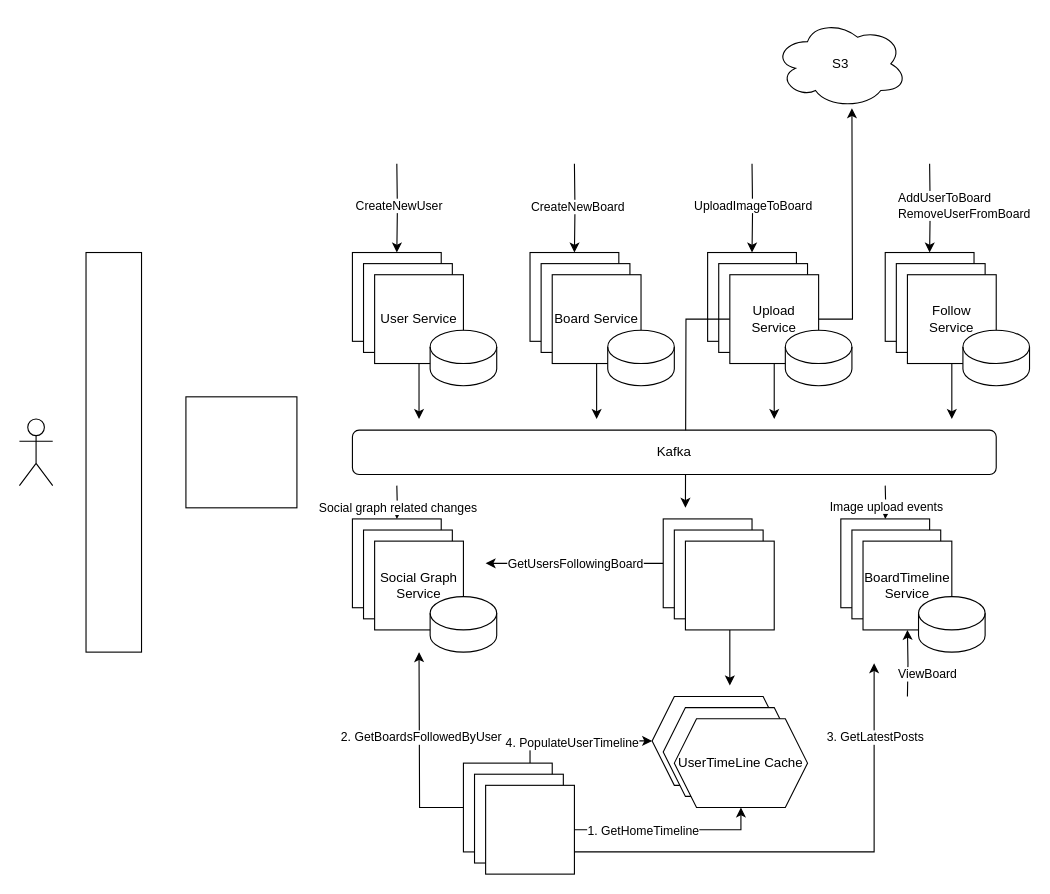
Some shapes in this 1050 by 894 pixel diagram are drawn without their labels. Each missing label, with the centre of its shape:
"Actor" belongs at point (35, 452).
"API Gateway" belongs at point (241, 452).
"Fanout Service" belongs at point (729, 585).
"LB(s)" belongs at point (113, 451).
"UserTimeline Service" belongs at point (529, 829).
